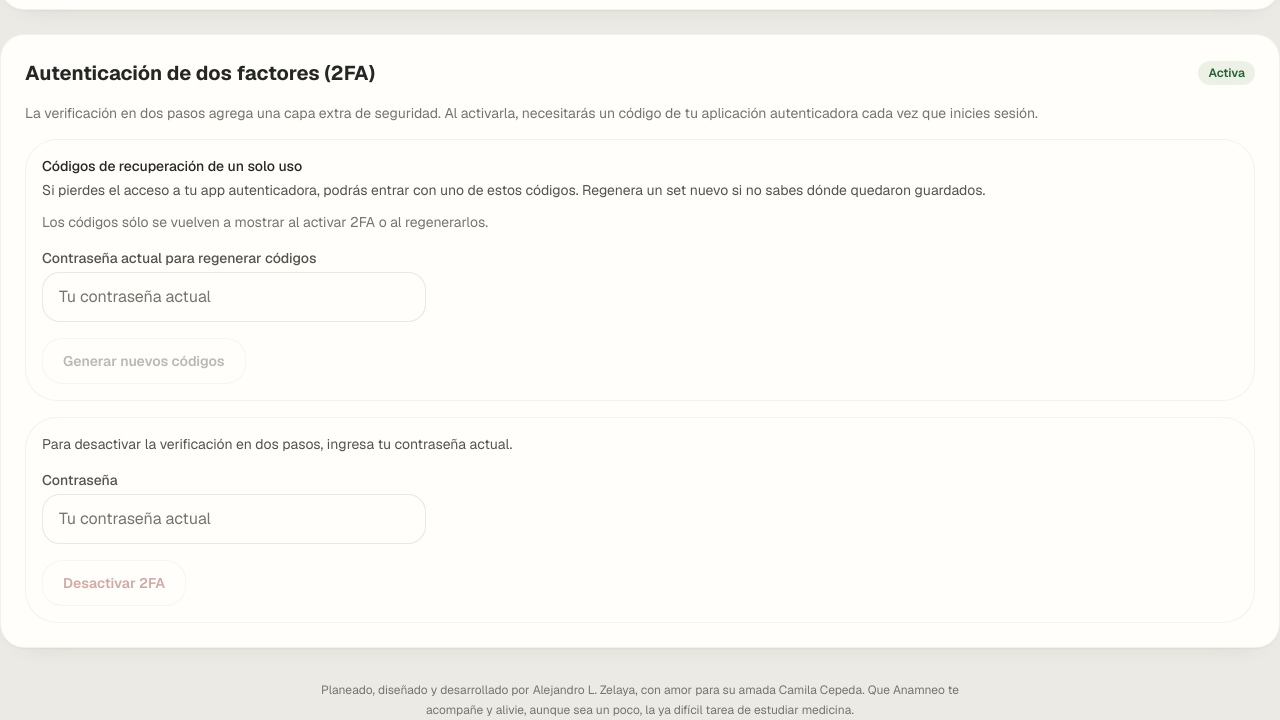
Scenario: AjustesPage › shows the real disable error instead of blaming the password for every failure
This screenshot has width=1280, height=720.
(page scrolled)
In the password field labelled "Contraseña": (234, 519) [42,494,426,544], type "Password1"
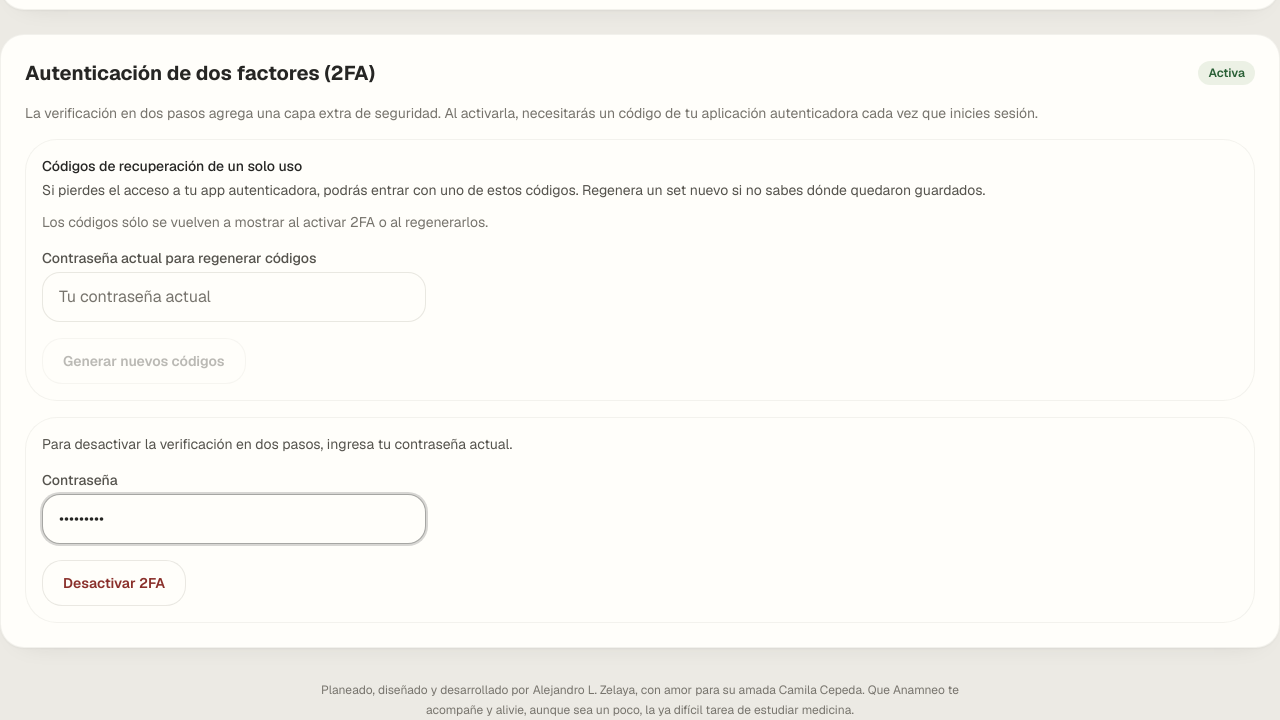
Click the button "Desactivar 2FA": click(114, 583) [42,560,186,606]
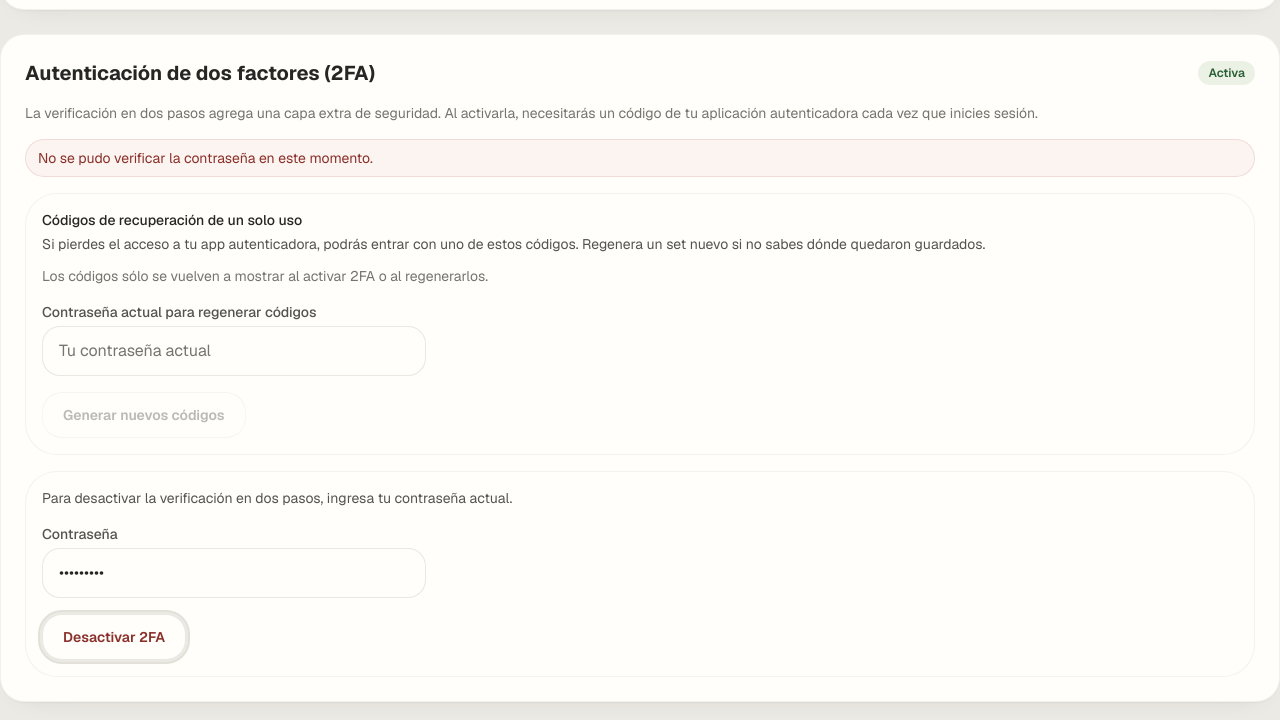
Expected: the text "No se pudo verificar la contraseña en este momento." is shown, [25,139,1255,177]
